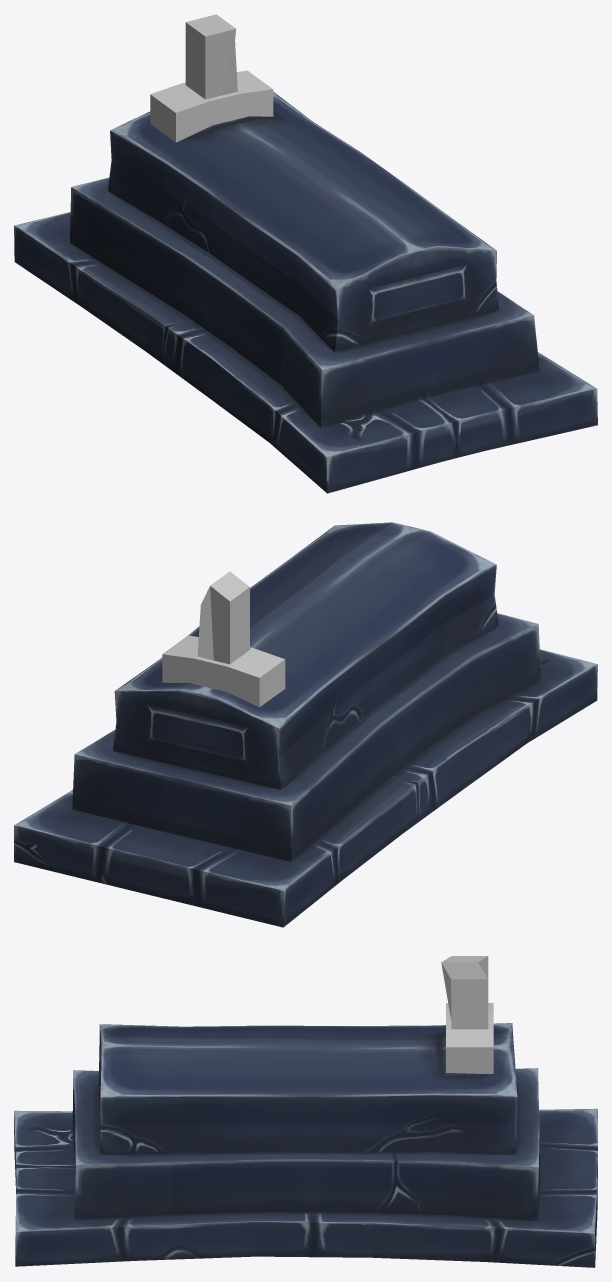
Rendered from tomb1_3.fbx.
3 views of the same model, one above another, from view 1: azimuth 30°, elevation 25°; view 2: azimuth 150°, elevation 25°; view 3: azimuth 270°, elevation 25° (orthographic). The views are drawn at different scales.
Visible parts, largest first — view 1: Cube.021, Cube.023; view 2: Cube.021, Cube.023; view 3: Cube.021, Cube.023.
Boxes of the visible parts, left/top/right/bottom form: Cube.021: left=14, top=92, right=597, bottom=493; Cube.023: left=150, top=14, right=273, bottom=142; Cube.021: left=14, top=522, right=597, bottom=927; Cube.023: left=162, top=571, right=285, bottom=707; Cube.021: left=14, top=1023, right=597, bottom=1267; Cube.023: left=441, top=956, right=493, bottom=1073.
Bounding box in the file's own units: 342 × 316 × 682.
